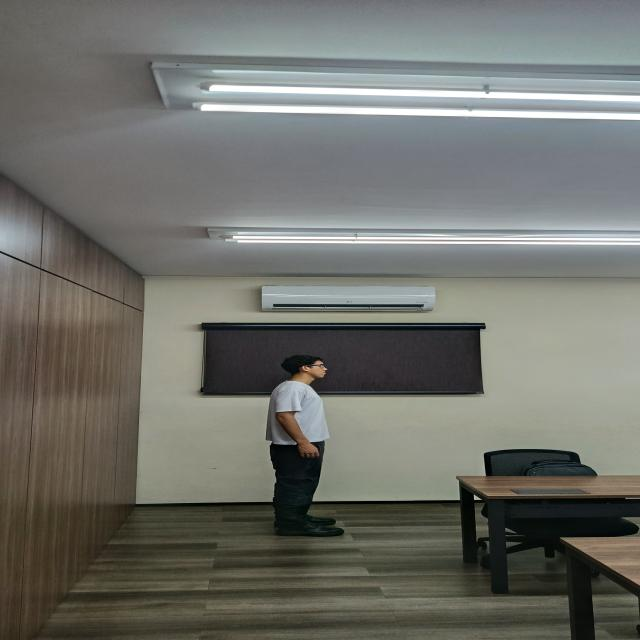sem_oculos: (307, 364, 324, 368)
